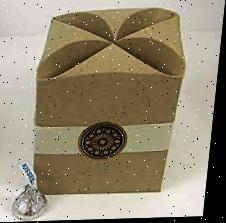cube: (32, 17, 188, 194)
